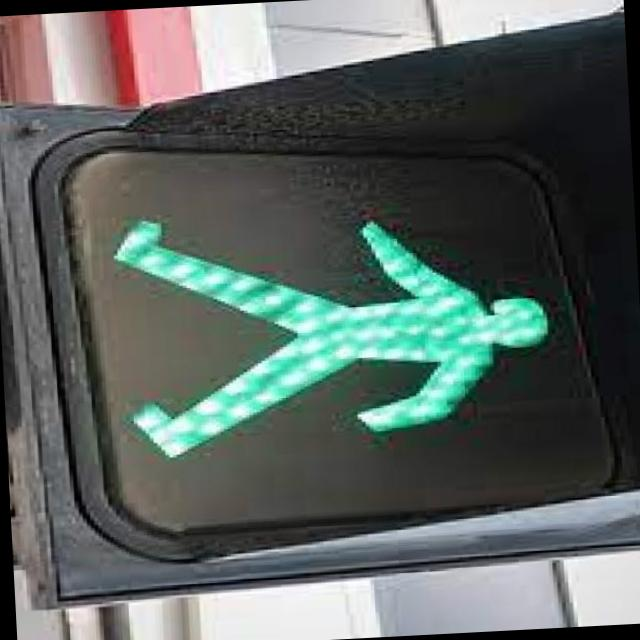green_light: (105, 162, 562, 477)
